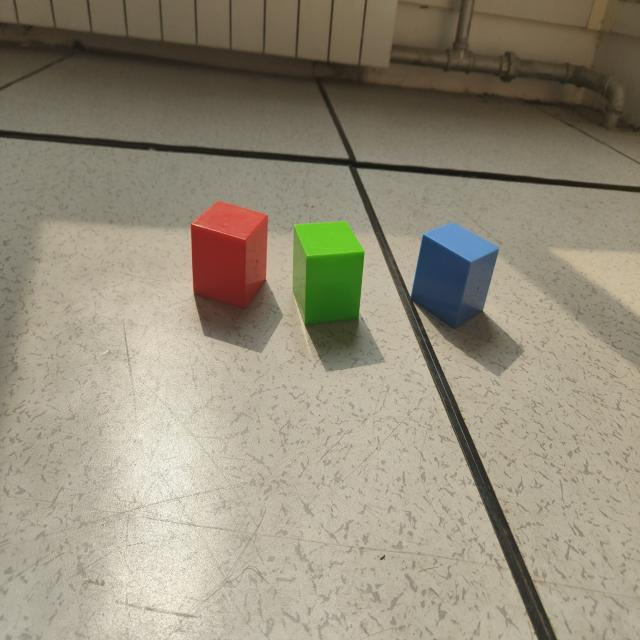blue: (411, 225, 500, 329)
green: (293, 222, 365, 328)
red: (190, 203, 269, 310)
